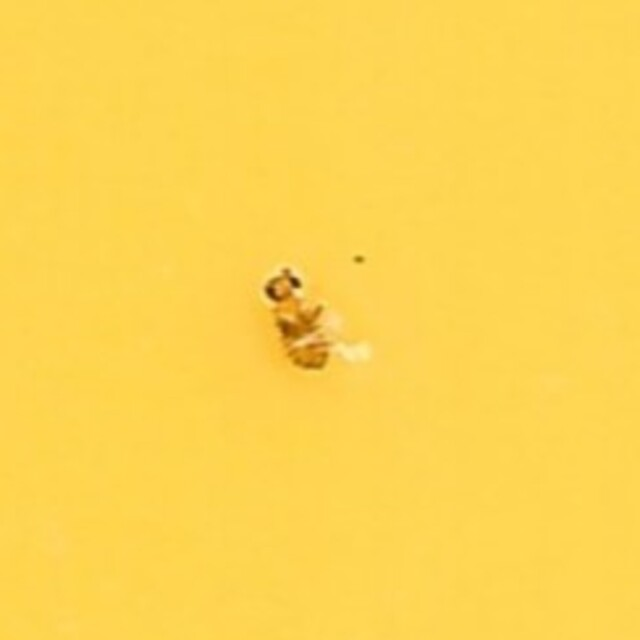Brachycera: (262, 264, 378, 376)
